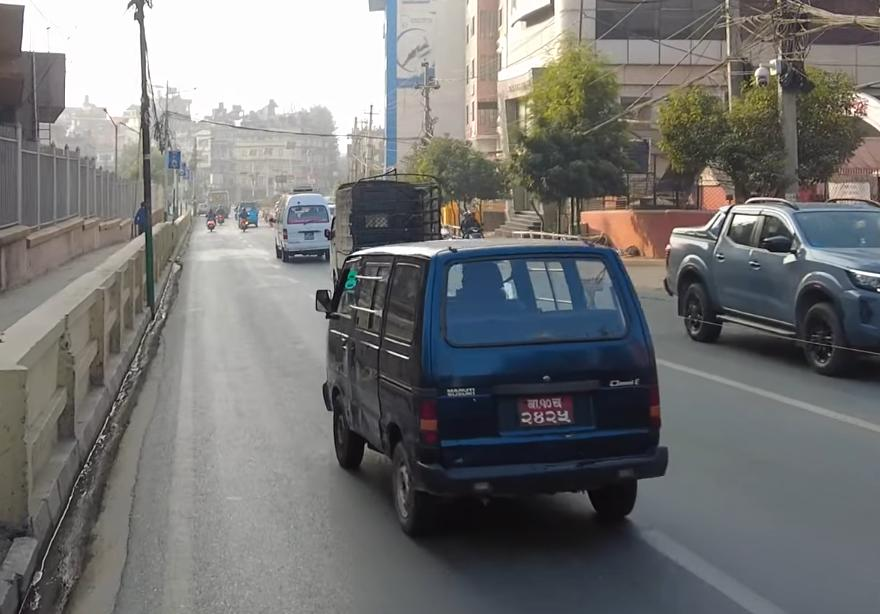micro_bus: (273, 186, 339, 263)
van: (307, 235, 677, 533)
